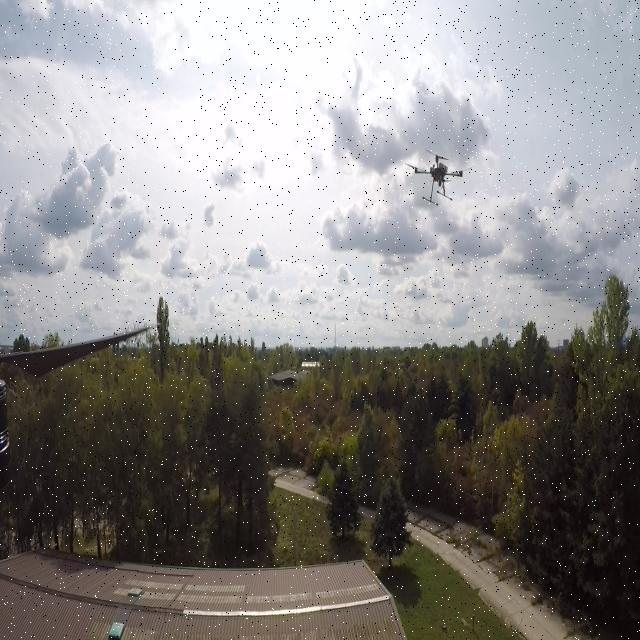UAV: (404, 146, 476, 206)
